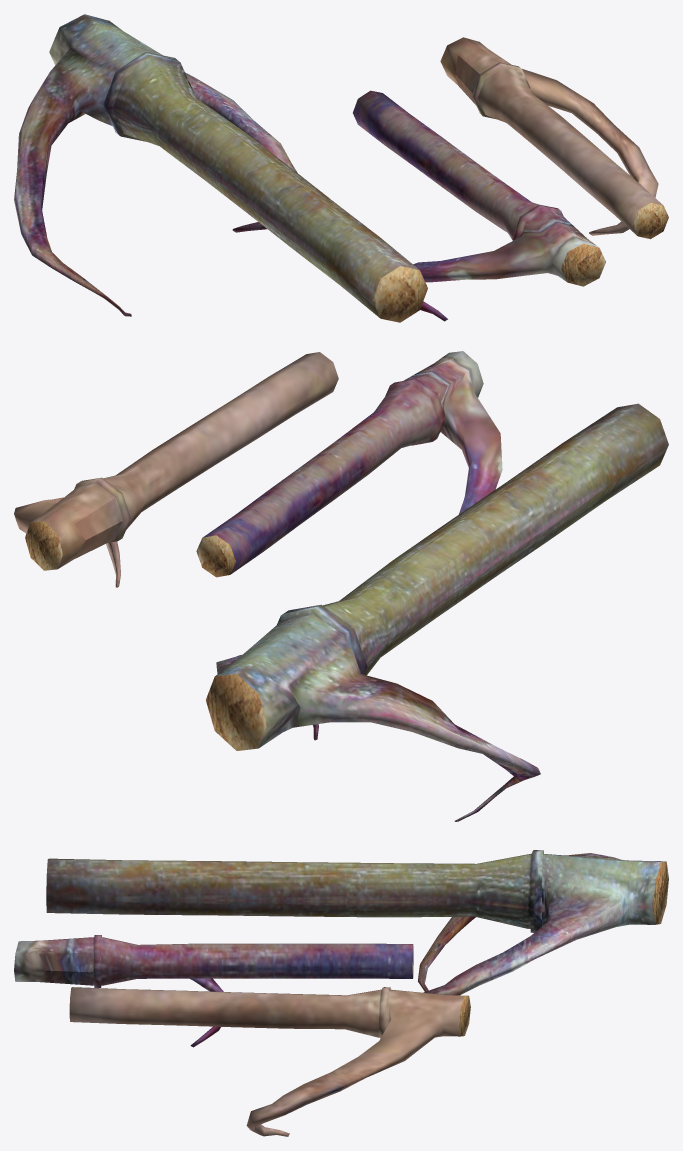
File: gouteng.FBX
3 renders of one model, top to bottom at view 1: azimuth 30°, elevation 25°; view 2: azimuth 150°, elevation 25°; view 3: azimuth 270°, elevation 25°, orthographic. The views are drawn at different scales.
Parts seen in each view (by area): view 1: Cylinder001, Cylinder003, Cylinder002; view 2: Cylinder001, Cylinder002, Cylinder003; view 3: Cylinder001, Cylinder003, Cylinder002.
Part boxes in pixels (box(x1,y1,x2,y2)): Cylinder001: box(14, 14, 427, 322); Cylinder003: box(440, 37, 668, 239); Cylinder002: box(353, 90, 605, 321); Cylinder001: box(206, 403, 668, 821); Cylinder002: box(196, 351, 502, 577); Cylinder003: box(14, 352, 338, 587); Cylinder001: box(46, 850, 668, 995); Cylinder003: box(69, 987, 470, 1136); Cylinder002: box(14, 935, 413, 1047).
Bounding box in the file's own units: 0.3836 × 0.1462 × 0.4528.
1 material, 1 textured.
